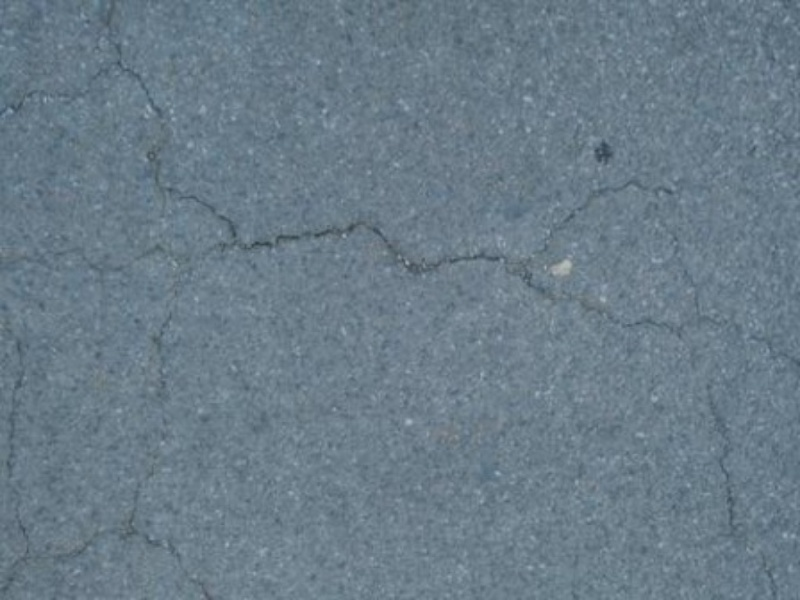crack: (98, 19, 774, 384), (50, 413, 215, 580), (1, 323, 39, 588), (14, 47, 131, 130), (693, 395, 747, 535)
